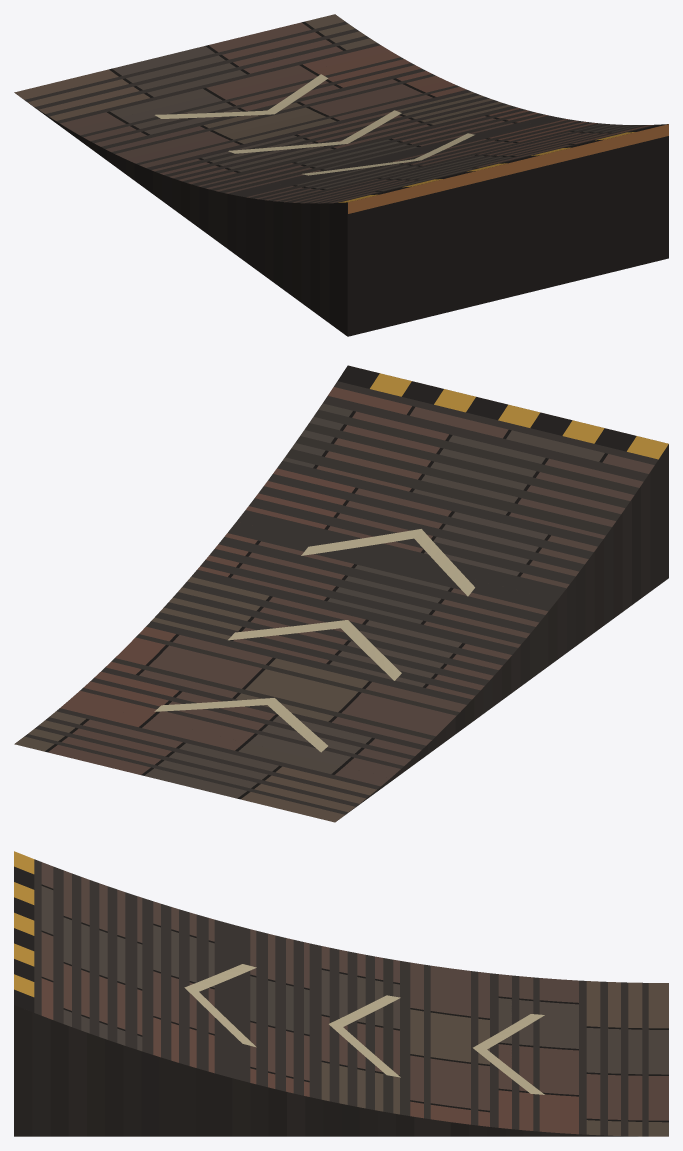
Rendered from plate_kicker_18x4x10.glb.
3 renders of one model, top to bottom at view 1: azimuth 30°, elevation 25°; view 2: azimuth 150°, elevation 25°; view 3: azimuth 270°, elevation 25°, orthographic.
Visible parts, largest first — view 1: plate_kicker_18x4x10, plate_kicker_18x4x10-col; view 2: plate_kicker_18x4x10, plate_kicker_18x4x10-col; view 3: plate_kicker_18x4x10, plate_kicker_18x4x10-col.
Part boxes in pixels (x1=…): plate_kicker_18x4x10: x1=14, y1=14, x2=668, y2=336; plate_kicker_18x4x10-col: x1=24, y1=21, x2=657, y2=203; plate_kicker_18x4x10: x1=14, y1=365, x2=668, y2=822; plate_kicker_18x4x10-col: x1=24, y1=381, x2=658, y2=814; plate_kicker_18x4x10: x1=14, y1=851, x2=668, y2=1136; plate_kicker_18x4x10-col: x1=34, y1=859, x2=648, y2=1136.
Size of the model in its own units: 10 by 4 by 18.
